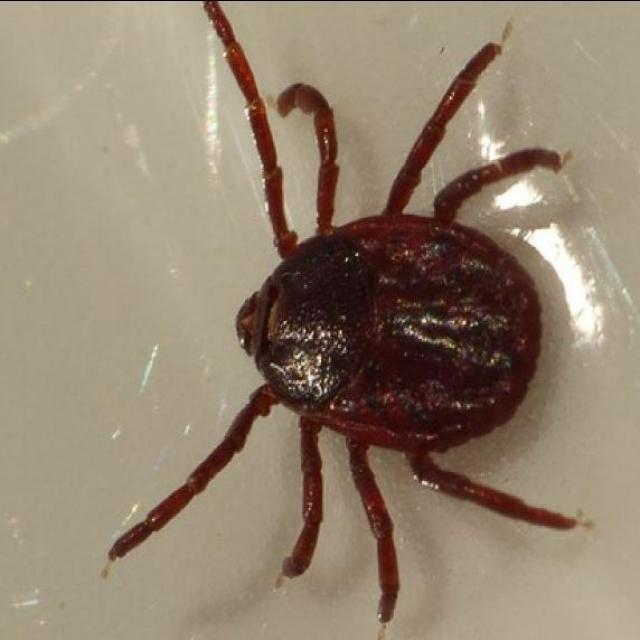Rhipicephalus Sanguineus-F: (110, 0, 580, 624)
